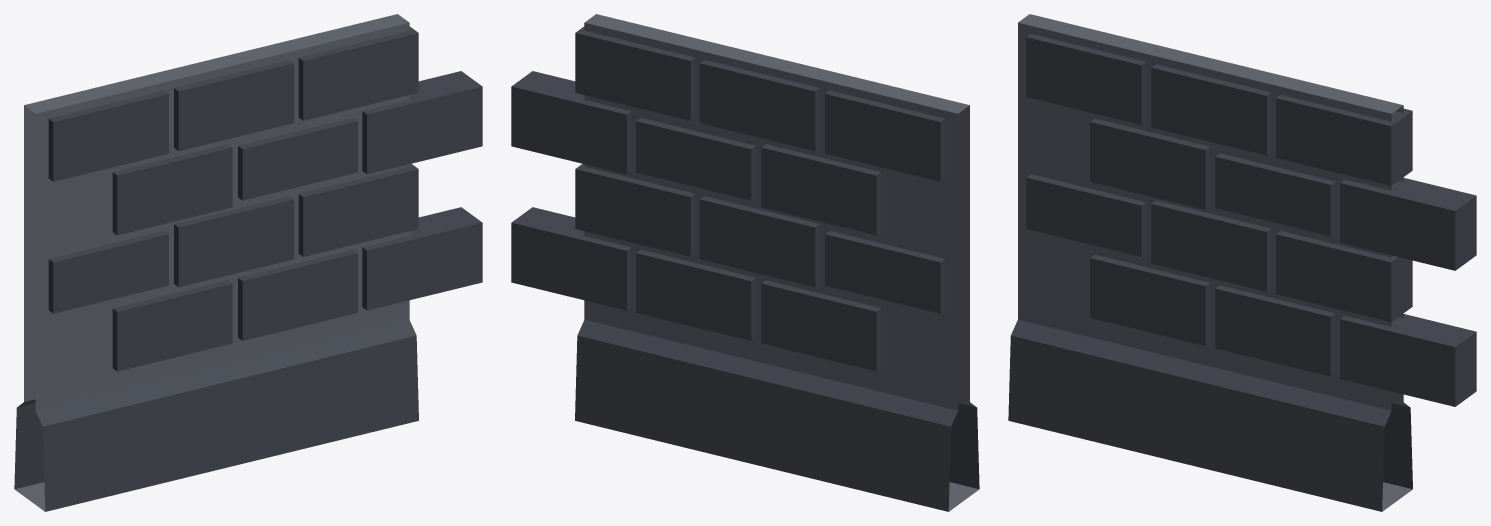
File: Wall_mid.fbx
3 views of the same model, side by side, from view 1: azimuth 30°, elevation 25°; view 2: azimuth 150°, elevation 25°; view 3: azimuth 330°, elevation 25° (orthographic).
Parts seen in each view (by area): view 1: Wall_mid; view 2: Wall_mid; view 3: Wall_mid.
Boxes of the visible parts, box(x1,y1,x2,y2) form: Wall_mid: box(14, 14, 482, 511); Wall_mid: box(511, 14, 979, 511); Wall_mid: box(1008, 14, 1476, 511).
Bounding box in the file's own units: 237 × 200 × 28.64.
